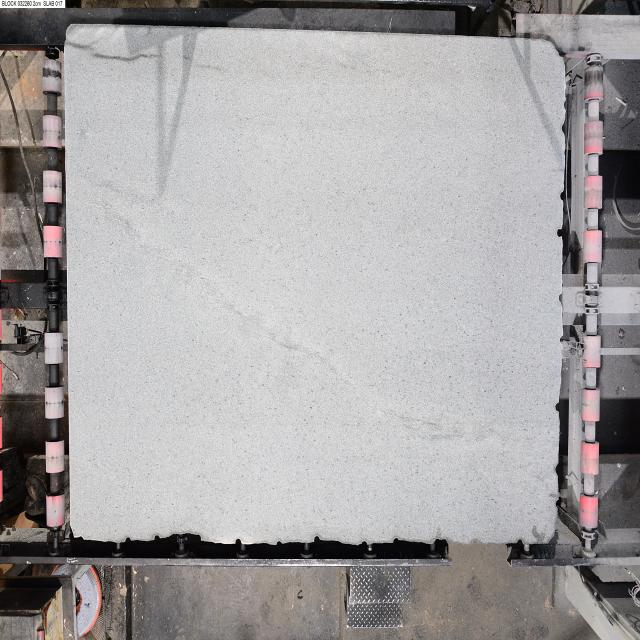chapa: (65, 24, 564, 544)
veio: (234, 537, 244, 549), (556, 226, 564, 240), (554, 400, 562, 414), (313, 534, 322, 546), (153, 532, 161, 542)
